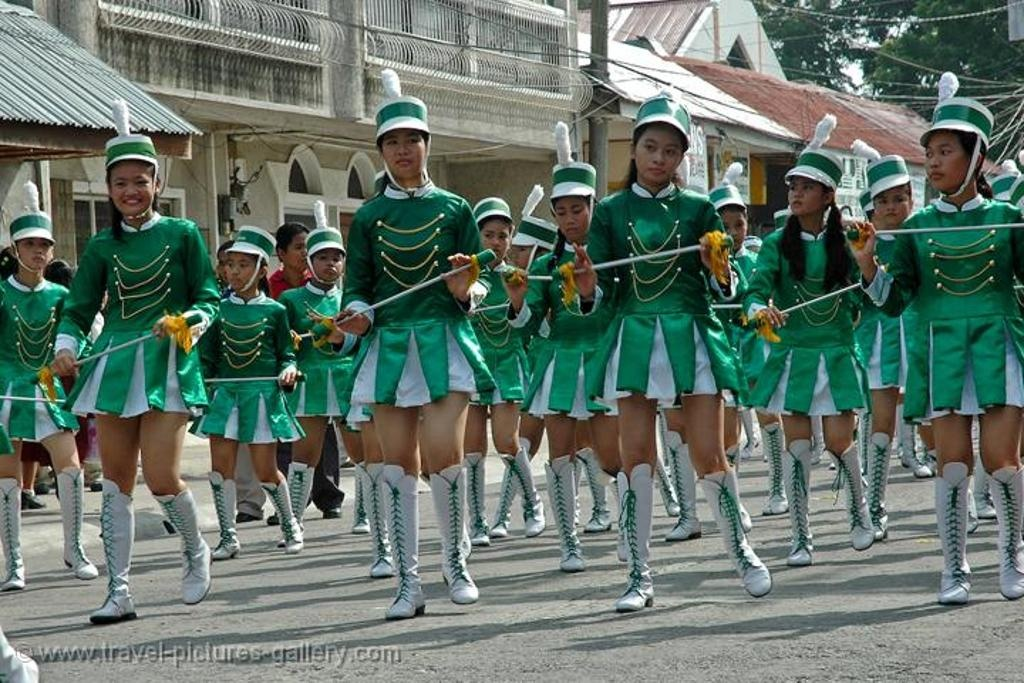human_face: (922, 132, 970, 190), (633, 126, 681, 181), (106, 164, 156, 214), (380, 127, 424, 177), (788, 174, 824, 215), (477, 216, 509, 262), (554, 197, 588, 239), (713, 206, 747, 248), (874, 186, 910, 224), (17, 229, 51, 269), (308, 249, 344, 283), (285, 232, 313, 266), (229, 252, 255, 288), (218, 249, 244, 285)
